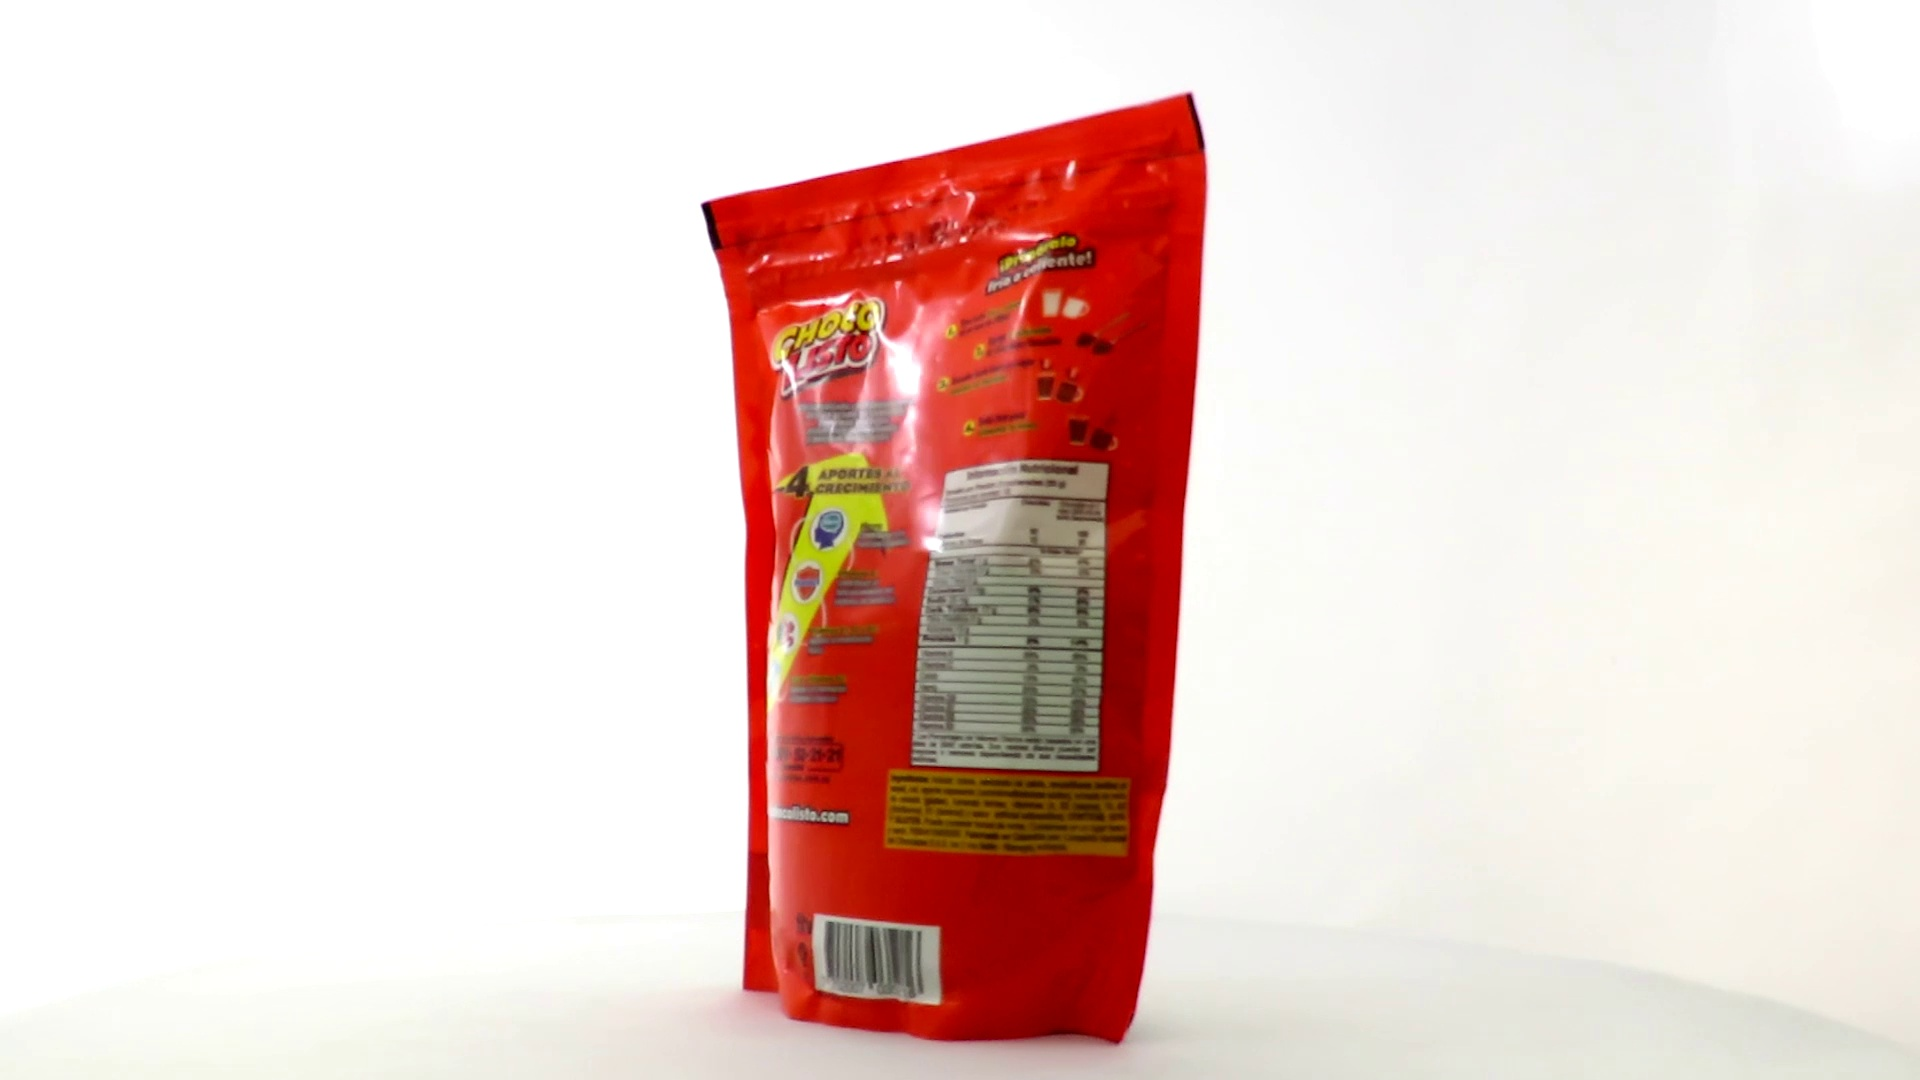COL0170103DYP36000: (696, 88, 1213, 1051)
